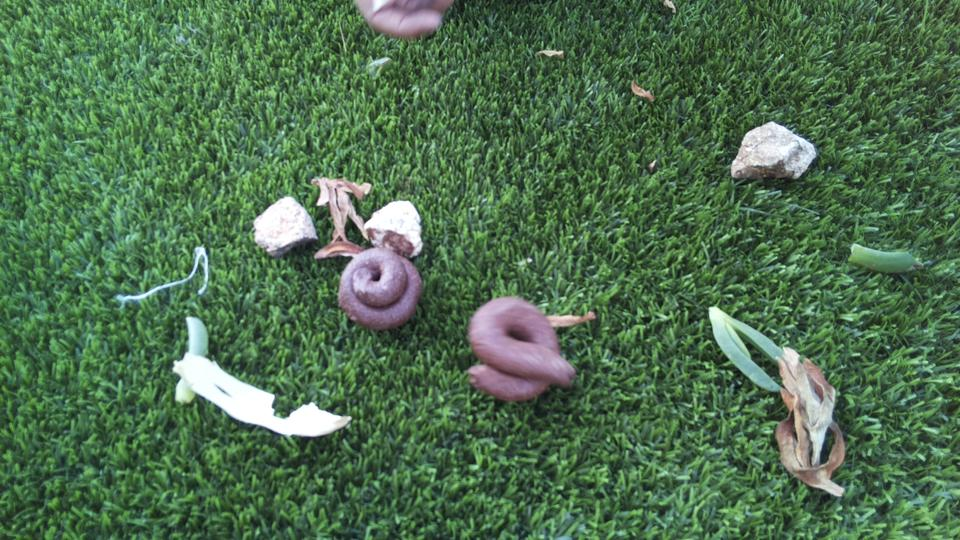poop: (462, 292, 578, 413), (335, 246, 424, 330)
